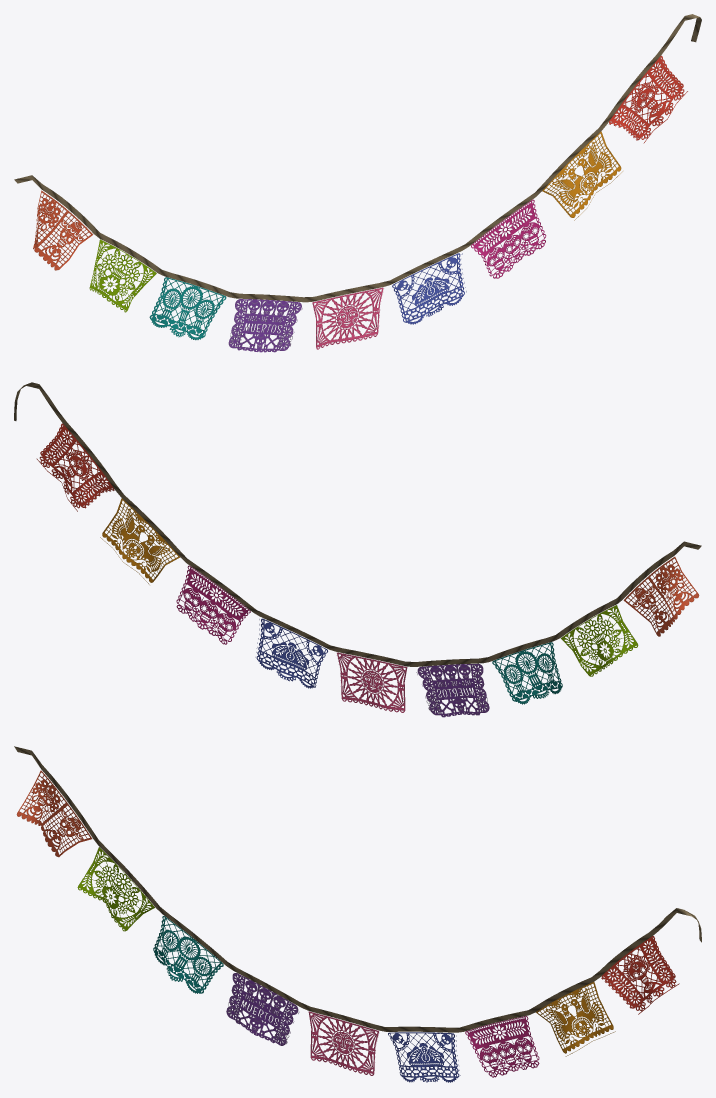
The model's file is PAEL DE PICADO GIRLANDE.fbx.
3 renders of one model, top to bottom at view 1: azimuth 30°, elevation 25°; view 2: azimuth 150°, elevation 25°; view 3: azimuth 330°, elevation 25°, orthographic.
Visible parts, largest first — view 1: PAEL DE PICADO GIRLANDE; view 2: PAEL DE PICADO GIRLANDE; view 3: PAEL DE PICADO GIRLANDE.
Boxes of the visible parts, x1,y1,x2,y2 form: PAEL DE PICADO GIRLANDE: [14, 14, 701, 352]; PAEL DE PICADO GIRLANDE: [14, 382, 701, 717]; PAEL DE PICADO GIRLANDE: [14, 746, 701, 1082].
Size of the model in its own units: 3572 by 1224 by 163.
